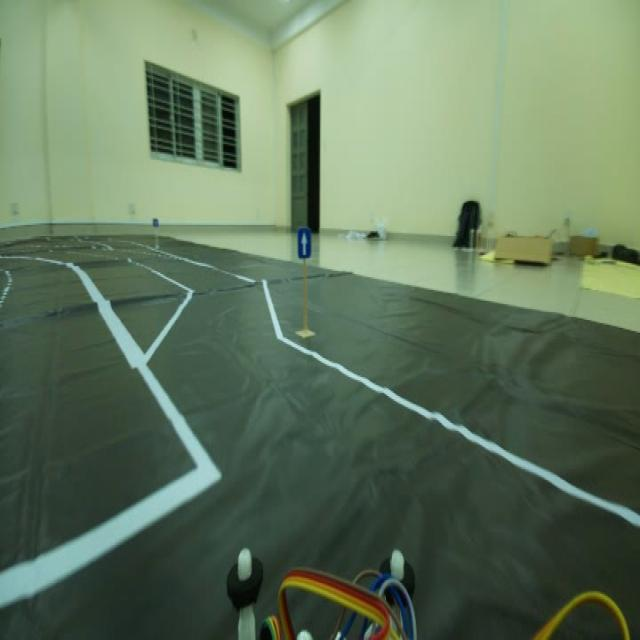onewayroad: (294, 224, 315, 266)
